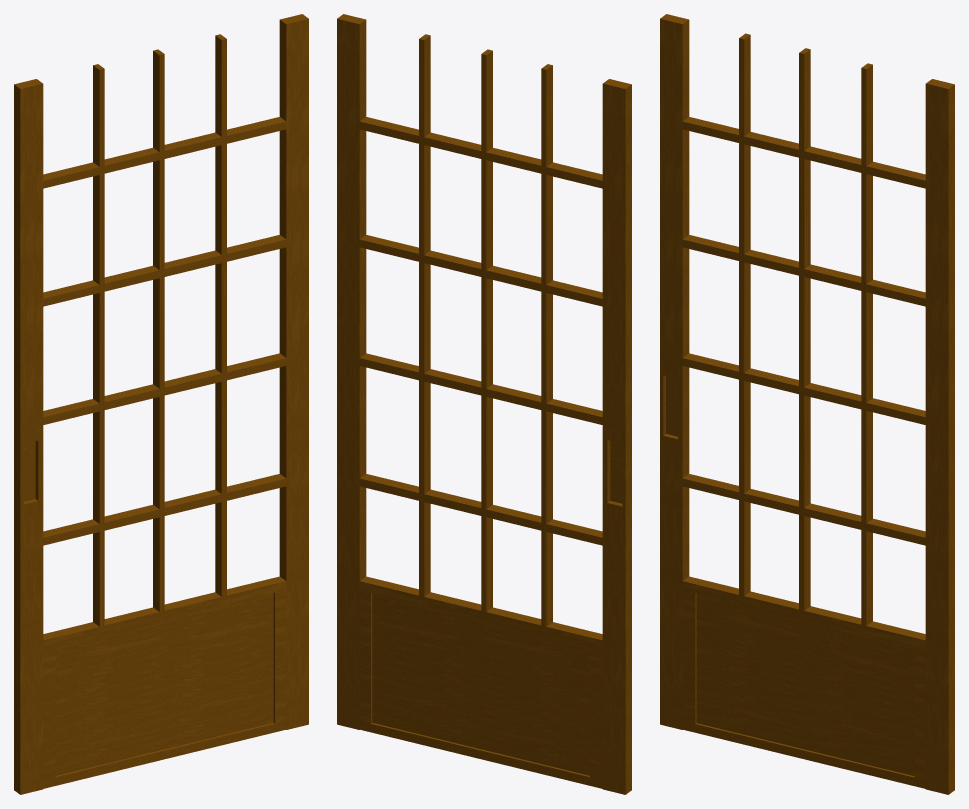
Rendered from result_syouji_right.obj.
The picture shows the model from 3 angles, left to right: view 1: azimuth 30°, elevation 25°; view 2: azimuth 150°, elevation 25°; view 3: azimuth 330°, elevation 25°; orthographic projection.
Parts seen in each view (by area): view 1: 立方体.546; view 2: 立方体.546; view 3: 立方体.546.
Part boxes in pixels (x1,y1,x2,y2): 立方体.546: [14, 14, 308, 794]; 立方体.546: [337, 14, 631, 794]; 立方体.546: [660, 14, 954, 794].
Size of the model in its own units: 41.49 by 97 by 1.61.
Materials: 1 (1 with a texture image).
